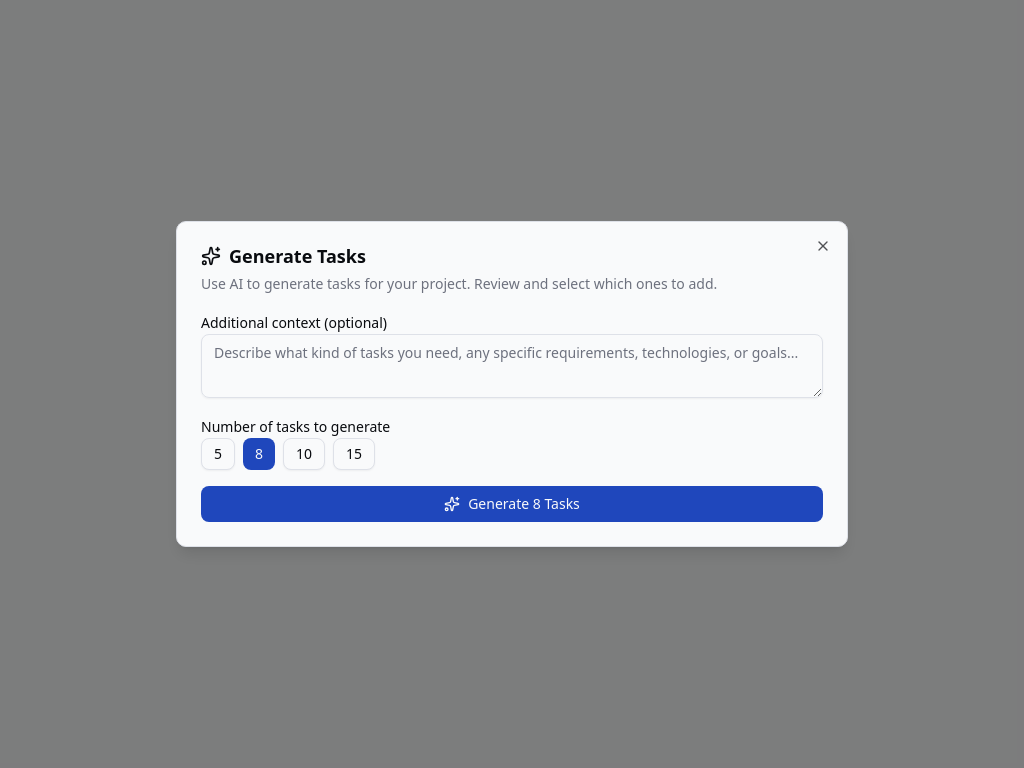
Scenario: GenerateTasksDialog › updates selected count when toggling
Click the button "Generate 8 Tasks" at (512,504), box [201,486,823,522]
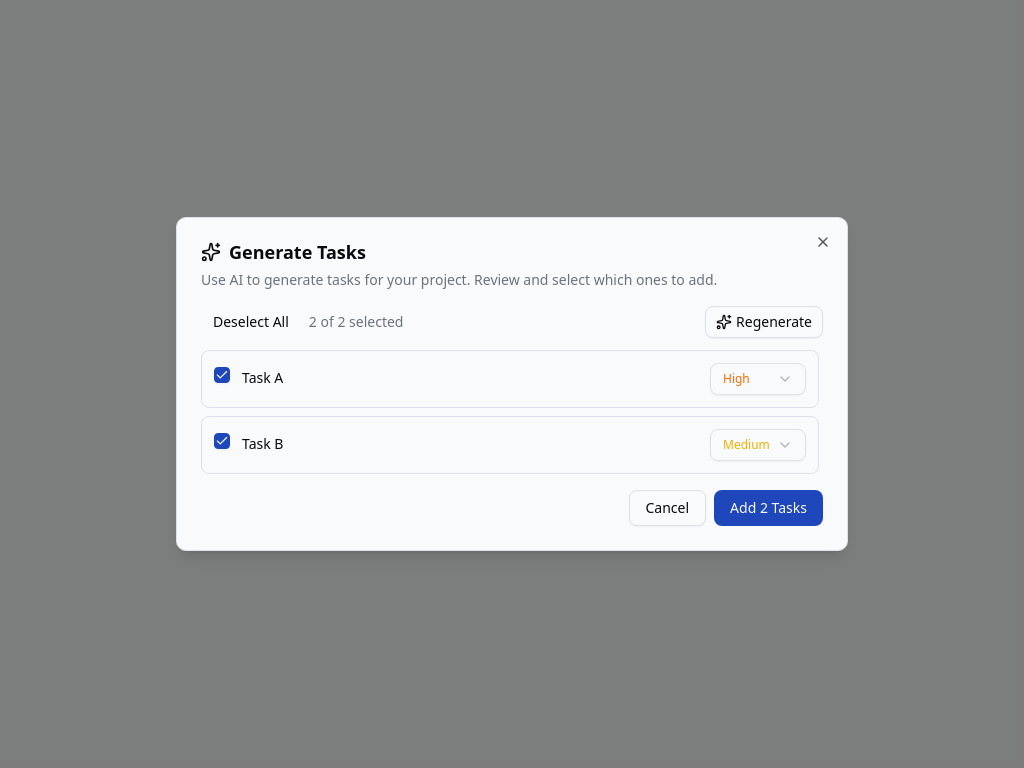
// Deselect first task
Click the checkbox named "Select Task A" at (222,375), box [214,367,230,383]
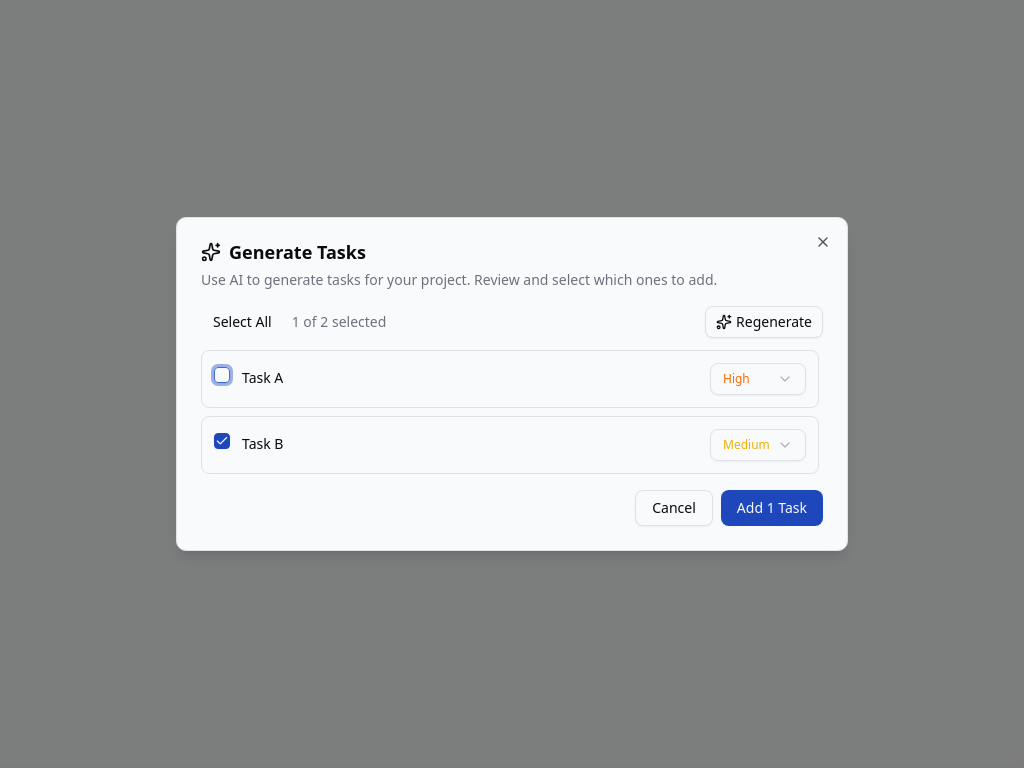
Expected: the text "1 of 2 selected" is shown, [292,312,386,332]
Expected: the button "Add 1 Task" is shown, [721,490,823,526]
